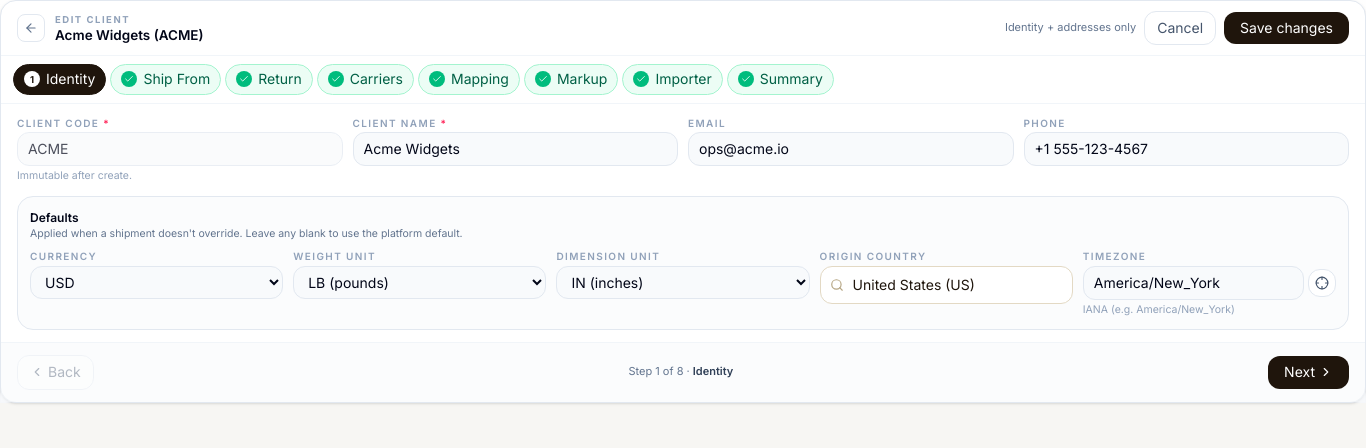
Test case: ClientEditorPage · ShipFrom · positive › Edit button does NOT appear when picked warehouse is PLATFORM-owned
Expected: the field with placeholder "MA1885" is shown, [17,132,342,166]
Click the tab "Ship From" at x=166, y=79, box [110,64,221,95]
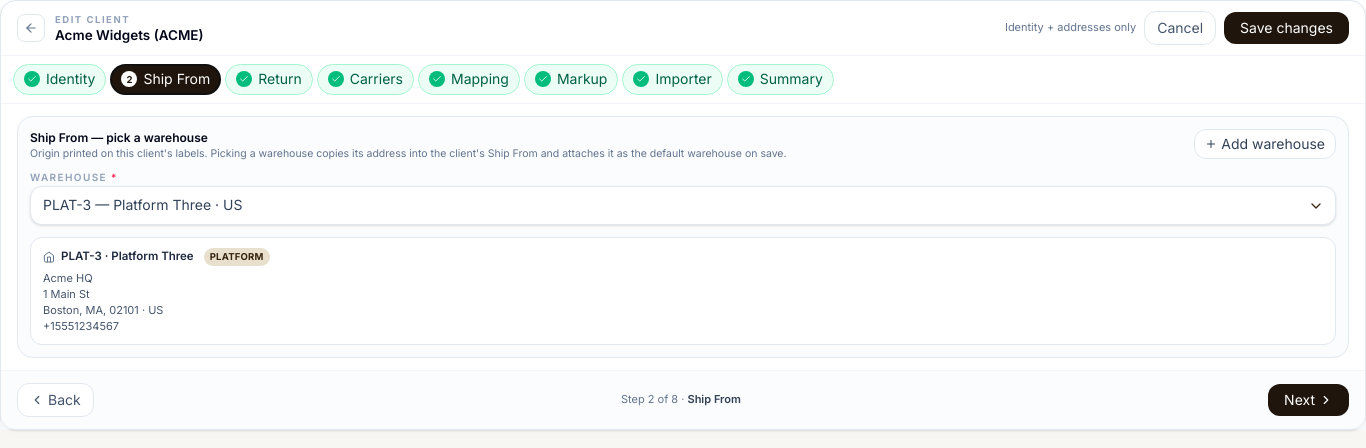
Now the heading "Ship From — pick a warehouse" is shown, box [30,130,208,145]
Now the text "PLAT-3 · Platform Three PLATFORM" is shown, box [43,248,270,266]
